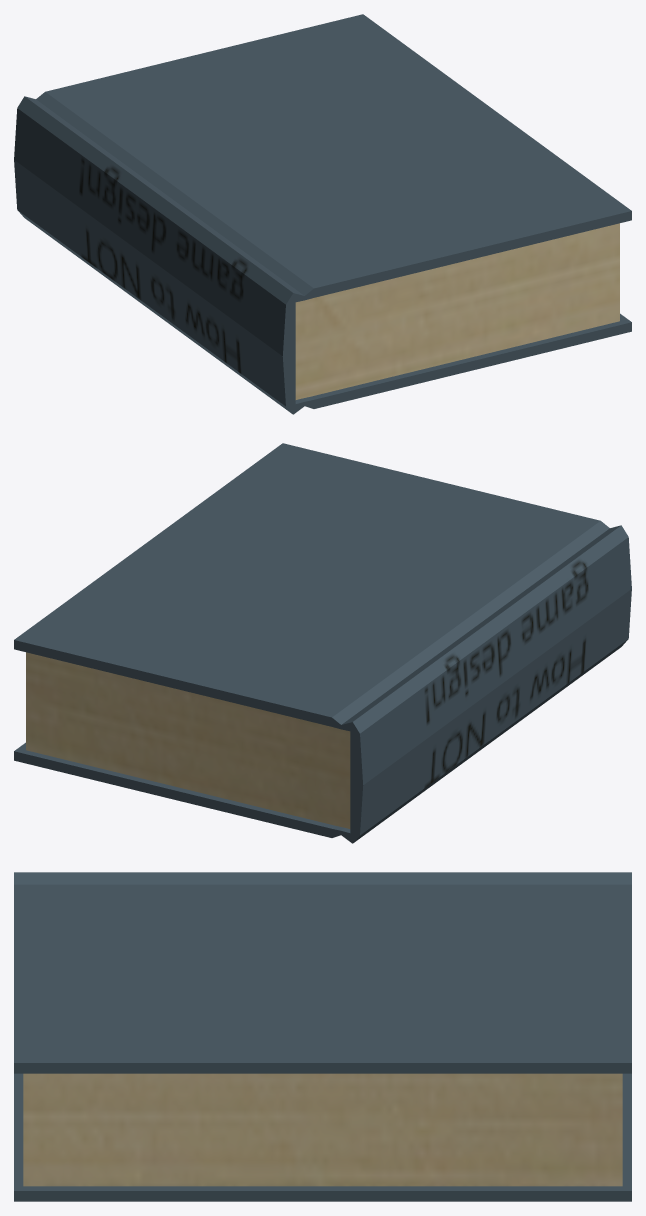
Rendered from LIBRO_GAME.glb.
3 views of the same model, one above another, from view 1: azimuth 30°, elevation 25°; view 2: azimuth 150°, elevation 25°; view 3: azimuth 270°, elevation 25° (orthographic). The views are drawn at different scales.
Parts seen in each view (by area): view 1: LIBRO_1; view 2: LIBRO_1; view 3: LIBRO_1.
Part boxes in pixels (x1,y1,x2,y2): LIBRO_1: (14, 14, 631, 414); LIBRO_1: (14, 443, 631, 843); LIBRO_1: (14, 872, 631, 1201).
Size of the model in its own units: 0.3 by 0.1 by 0.4.
Materials: 1 (1 with a texture image).
